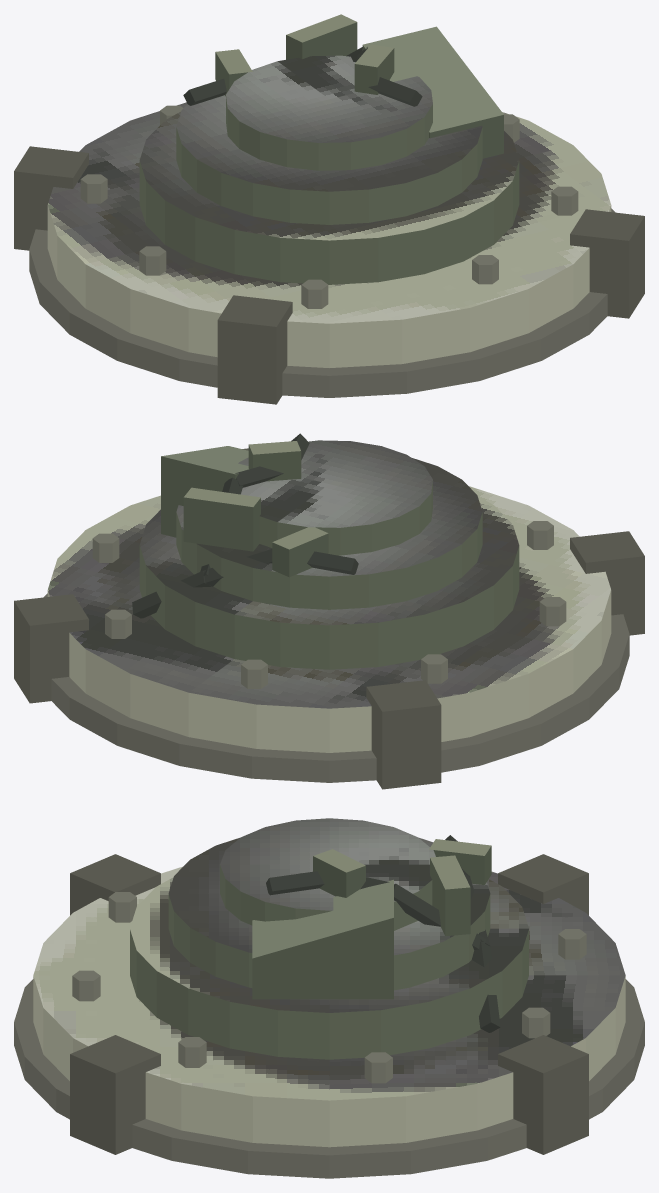
Rendered from Building_AncientMechDropBeacon__B.glb.
3 views of the same model, one above another, from view 1: azimuth 30°, elevation 25°; view 2: azimuth 150°, elevation 25°; view 3: azimuth 270°, elevation 25° (orthographic). The views are drawn at different scales.
Visible parts, largest first — view 1: AncientMechDropBeacon__B; view 2: AncientMechDropBeacon__B; view 3: AncientMechDropBeacon__B.
Part boxes in pixels (x1,y1,x2,y2): AncientMechDropBeacon__B: [14, 14, 644, 404]; AncientMechDropBeacon__B: [14, 433, 644, 789]; AncientMechDropBeacon__B: [14, 818, 644, 1178].
Size of the model in its own units: 0.98 by 0.36 by 0.98.
Materials: 1 (1 with a texture image).
